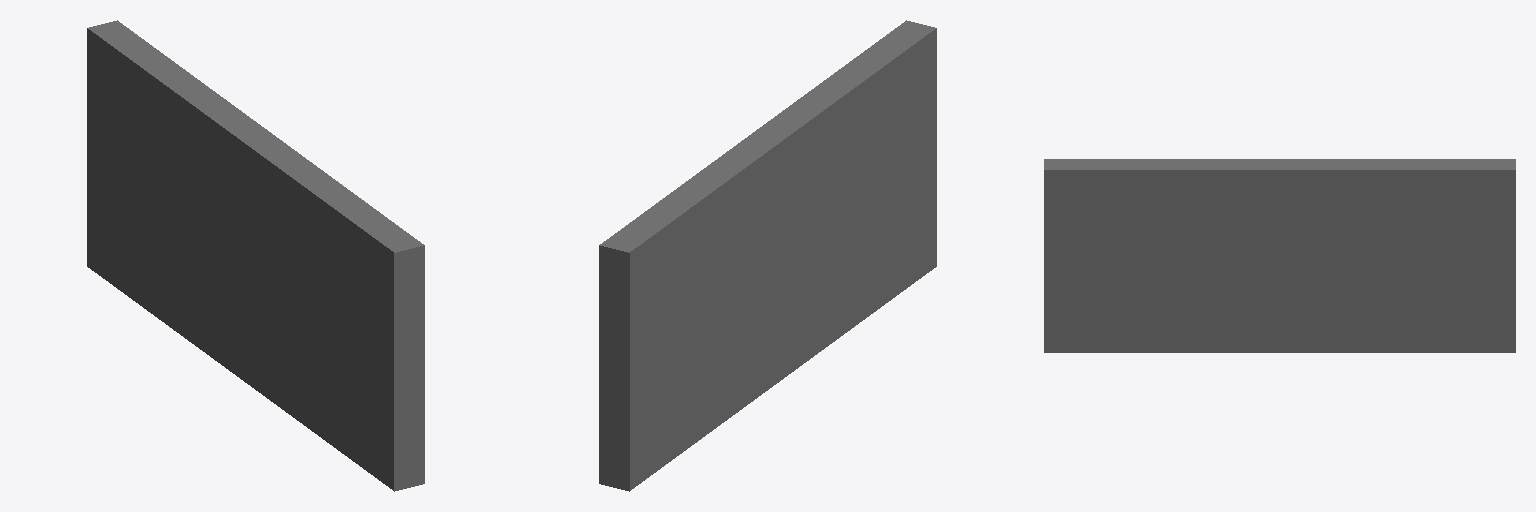
robot.urdf — slab2:
<robot name="slab2">
  <link name="slab2">

    <inertial>
      <origin xyz="0 0 0" />
      <mass value="0.1" />
      <inertia  ixx="0.00003375" ixy="0.0"  ixz="0.0"  iyy="0.00003375"  iyz="0.0"  izz="0.00003375" />
    </inertial>

    <visual>
      <origin xyz="0 0 0"/>
      <geometry>
        <box size="0.02 0.35 0.15" />
      </geometry>
      <material name="white">
        <color rgba="0.5 0.5 0.5 1.0"/>
      </material>
    </visual>

    <collision>
      <origin xyz="0 0 0"/>
      <geometry>
        <box size="0.02 0.35 0.15" />
      </geometry>
    </collision>
  </link>
</robot>

--- Facts derived from the render (not from the file) ---
3 views of the same robot in one strip: view 1: azimuth 30°, elevation 25°; view 2: azimuth 150°, elevation 25°; view 3: azimuth 270°, elevation 25° (orthographic).
Robot: slab2 — 1 links, 0 joints (none); root link slab2; default pose: every joint at zero.
Visible links, largest first — view 1: slab2; view 2: slab2; view 3: slab2.
Boxes of the visible links, <box> form: slab2: <box>87,20,424,491</box>; slab2: <box>599,20,936,491</box>; slab2: <box>1044,159,1515,352</box>.
Size in the robot's own frame: 0.02 by 0.35 by 0.15 metres.
Geometry: primitives only (box / cylinder / sphere), no mesh files.